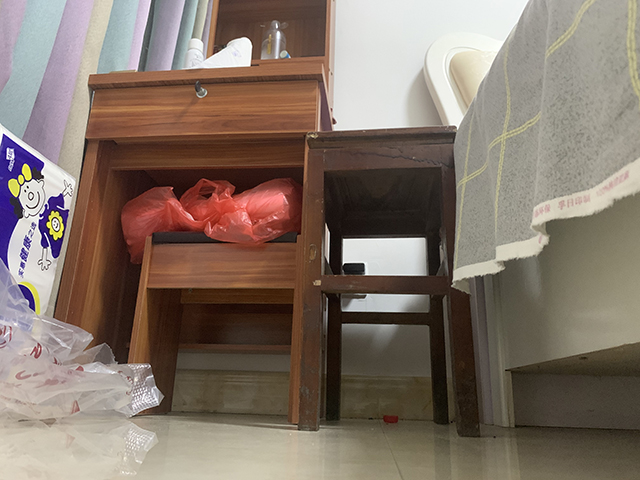bed: (421, 1, 640, 431)
cabinet: (53, 1, 338, 431)
stool: (296, 125, 484, 438)
